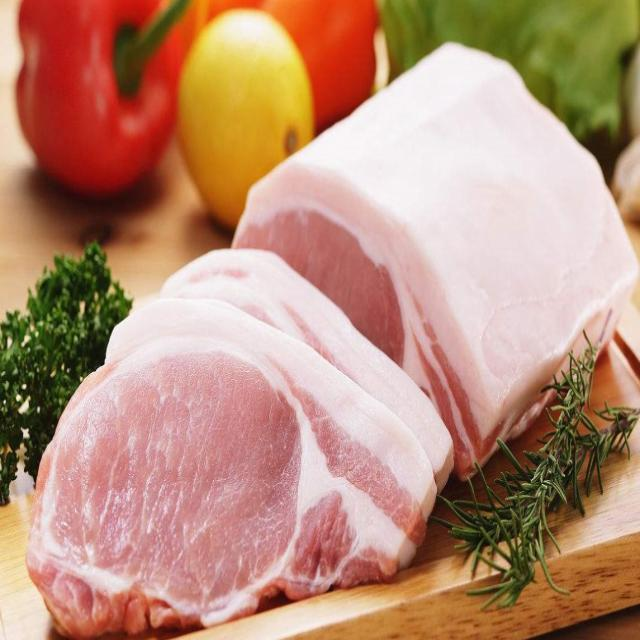pork: (241, 30, 615, 429), (37, 307, 429, 630)
